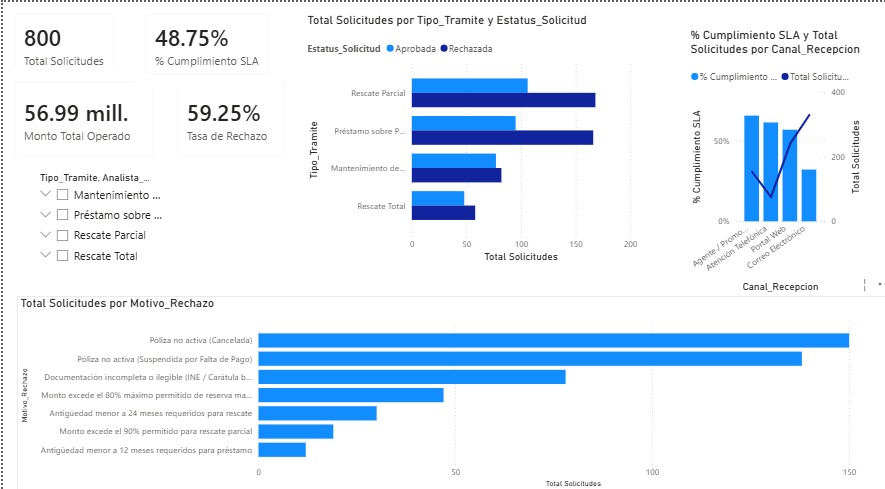

This screenshot's page, from the dashboard's own definition file:
{"tool":"powerbi","page":{"name":"Página 1","canvas":[1280,720],"ordinal":0},"visuals":[{"type":"cardVisual","fields":{"Data":["Base_Operaciones_SSI.Total Solicitudes"]},"box":[0,0,175,120],"z":0},{"type":"cardVisual","fields":{"Data":["Base_Operaciones_SSI.Monto Total Operado"]},"box":[0,96.2,232.5,141.2],"z":1000},{"type":"cardVisual","fields":{"Data":["Base_Operaciones_SSI.Tasa de Rechazo"]},"box":[232.5,96.2,187.5,141.2],"z":2000},{"type":"cardVisual","fields":{"Data":["Base_Operaciones_SSI.% Cumplimiento SLA"]},"box":[187.5,0,210,120],"z":3000},{"type":"clusteredBarChart","fields":{"Series":["Base_Operaciones_SSI.Estatus_Solicitud"],"Category":["Base_Operaciones_SSI.Tipo_Tramite"],"Y":["Base_Operaciones_SSI.Total Solicitudes"]},"box":[430,16.2,481.2,361.2],"z":4000},{"type":"barChart","fields":{"Category":["Base_Operaciones_SSI.Motivo_Rechazo"],"Y":["Base_Operaciones_SSI.Total Solicitudes"]},"box":[20,420,1260,278.8],"z":5000},{"type":"lineStackedColumnComboChart","fields":{"Y":["Base_Operaciones_SSI.% Cumplimiento SLA"],"Y2":["Base_Operaciones_SSI.Total Solicitudes"],"Category":["Base_Operaciones_SSI.Canal_Recepcion"]},"box":[977.5,37.5,252.5,382.5],"z":6000},{"type":"slicer","fields":{"Values":["Base_Operaciones_SSI.Tipo_Tramite","Base_Operaciones_SSI.Analista_Asignado","Base_Operaciones_SSI.Cumplimiento_SLA"]},"box":[40,237.5,192.5,161.2],"z":7000}]}

Visuals, with their boxes in screenshot pixels (x1, y1, x2, y2), scaled from the page's 1280x720 canvas onto the 885x489 screenshot:
cardVisual - Base_Operaciones_SSI.Total Solicitudes: [left=0, top=0, right=121, bottom=82]
cardVisual - Base_Operaciones_SSI.Monto Total Operado: [left=0, top=65, right=161, bottom=161]
cardVisual - Base_Operaciones_SSI.Tasa de Rechazo: [left=161, top=65, right=290, bottom=161]
cardVisual - Base_Operaciones_SSI.% Cumplimiento SLA: [left=130, top=0, right=275, bottom=82]
clusteredBarChart - Base_Operaciones_SSI.Estatus_Solicitud x Base_Operaciones_SSI.Tipo_Tramite: [left=297, top=11, right=630, bottom=256]
barChart - Base_Operaciones_SSI.Motivo_Rechazo x Base_Operaciones_SSI.Total Solicitudes: [left=14, top=285, right=884, bottom=475]
lineStackedColumnComboChart - Base_Operaciones_SSI.% Cumplimiento SLA x Base_Operaciones_SSI.Total Solicitudes: [left=676, top=25, right=850, bottom=285]
slicer - Base_Operaciones_SSI.Tipo_Tramite x Base_Operaciones_SSI.Analista_Asignado: [left=28, top=161, right=161, bottom=271]
